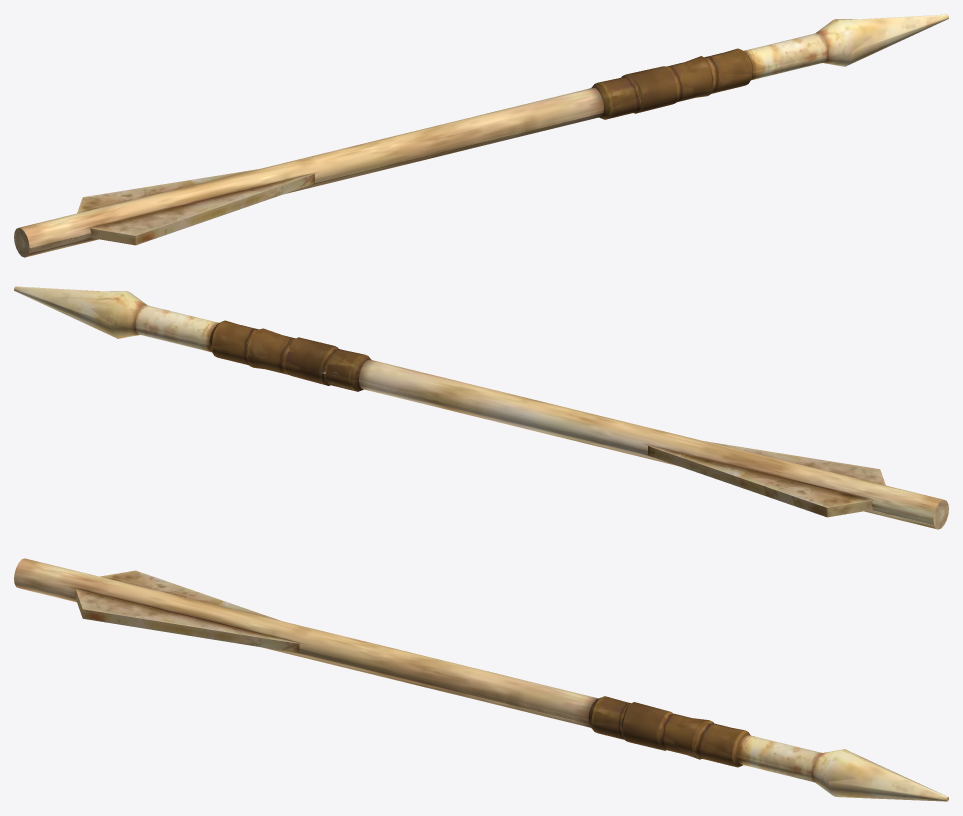
3 renders of one model, top to bottom at view 1: azimuth 30°, elevation 25°; view 2: azimuth 150°, elevation 25°; view 3: azimuth 330°, elevation 25°, orthographic.
Parts seen in each view (by area): view 1: SM_CrossbowBolt_Bone_01_LOD0; view 2: SM_CrossbowBolt_Bone_01_LOD0; view 3: SM_CrossbowBolt_Bone_01_LOD0.
Boxes of the visible parts, x1=… form: SM_CrossbowBolt_Bone_01_LOD0: x1=14, y1=14, x2=948, y2=257; SM_CrossbowBolt_Bone_01_LOD0: x1=14, y1=286, x2=948, y2=529; SM_CrossbowBolt_Bone_01_LOD0: x1=14, y1=558, x2=948, y2=801.
Bounding box in the file's own units: 0.4416 × 0.0205 × 0.0437.
Materials: 1 (1 with a texture image).
